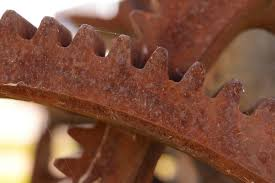rust: (1, 9, 205, 114), (128, 66, 275, 182), (132, 2, 256, 75), (53, 107, 163, 183)
